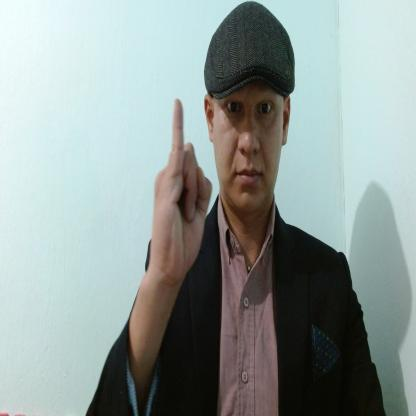I: (150, 97, 213, 286)
